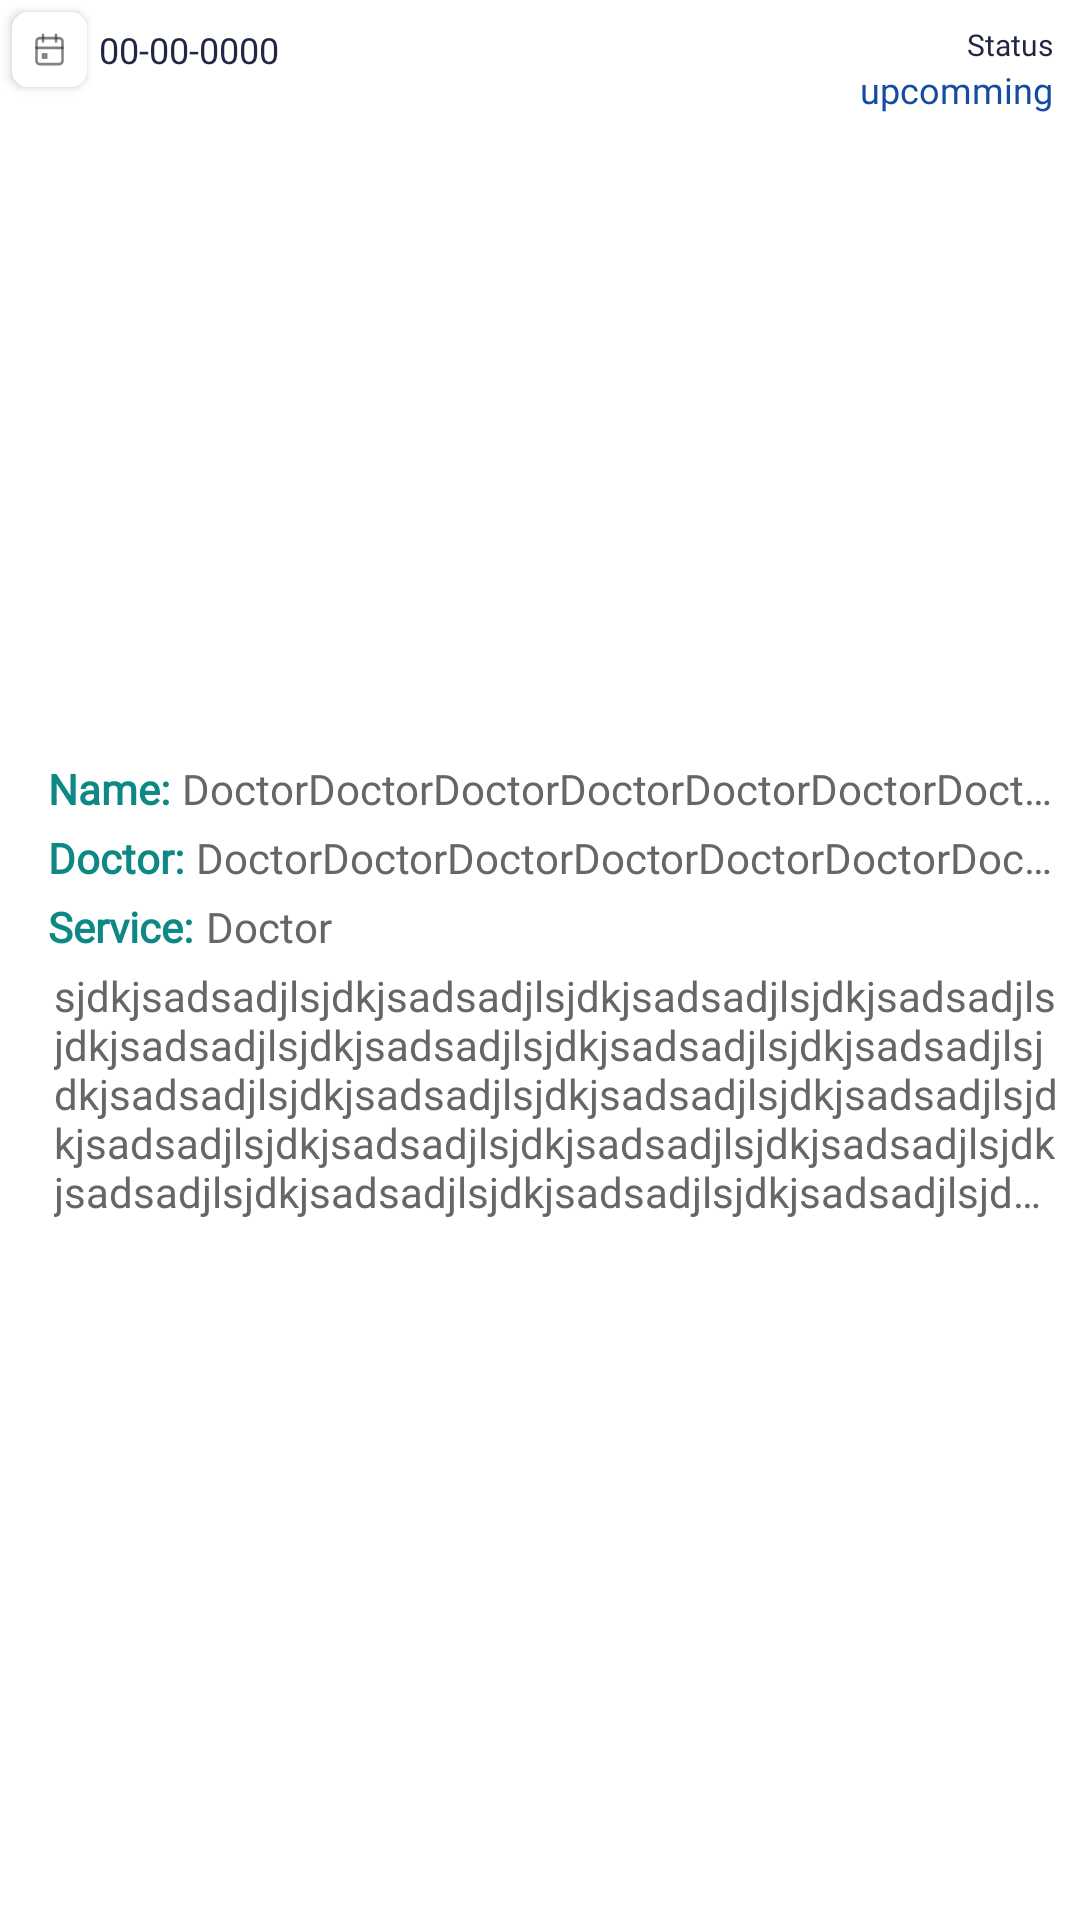

Screen size 1080w x 1920h. Icon name, then its center in pixels as (x=x, y=y):
calendr: (x=38, y=50)
